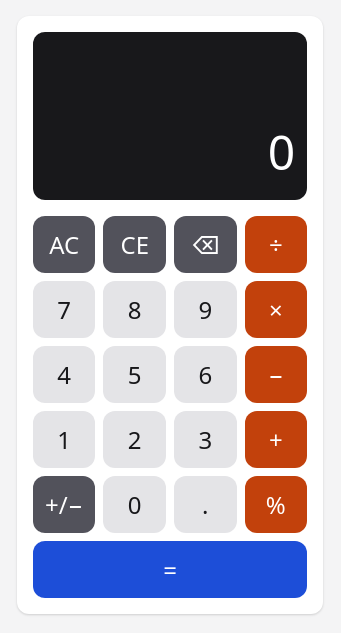
Scenario: correct a mistake without starting over (User Story 2) › clear all returns to the initial state
This screenshot has width=341, height=633.
Step 1. Click the button "5" → coordinates (135, 374), box left=104, top=346, right=166, bottom=403
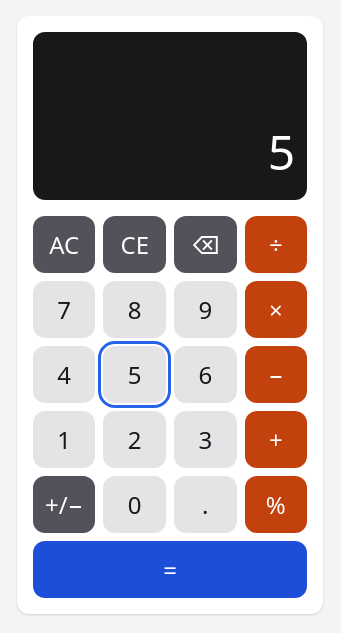
Step 2. Click the button named "Add" → coordinates (276, 440), box left=244, top=411, right=307, bottom=468
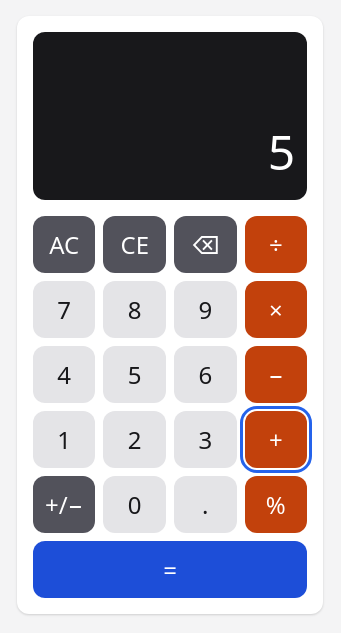
Step 3. Click the button "3" → coordinates (205, 440), box left=174, top=411, right=236, bottom=468
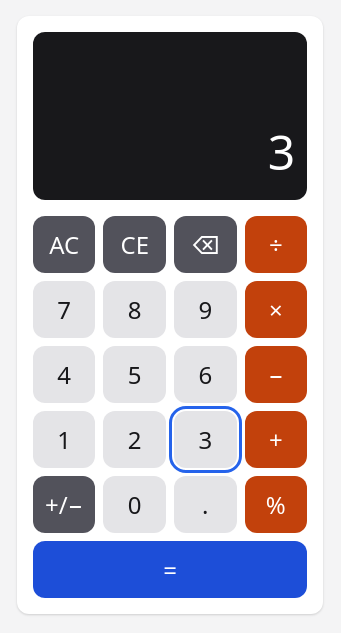
Step 4. Click the button with aria-label "Clear all" → coordinates (64, 244), box left=33, top=216, right=95, bottom=273
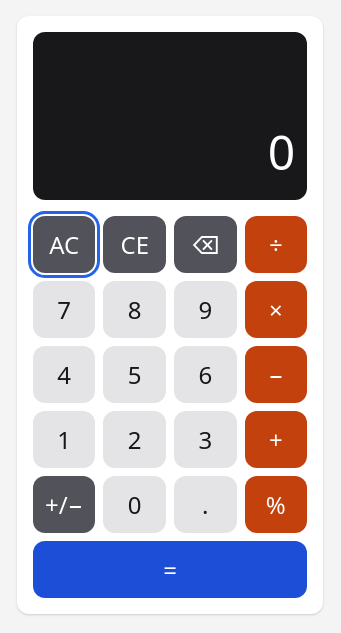
Expected: the message reads "0", left=268, top=119, right=295, bottom=184
